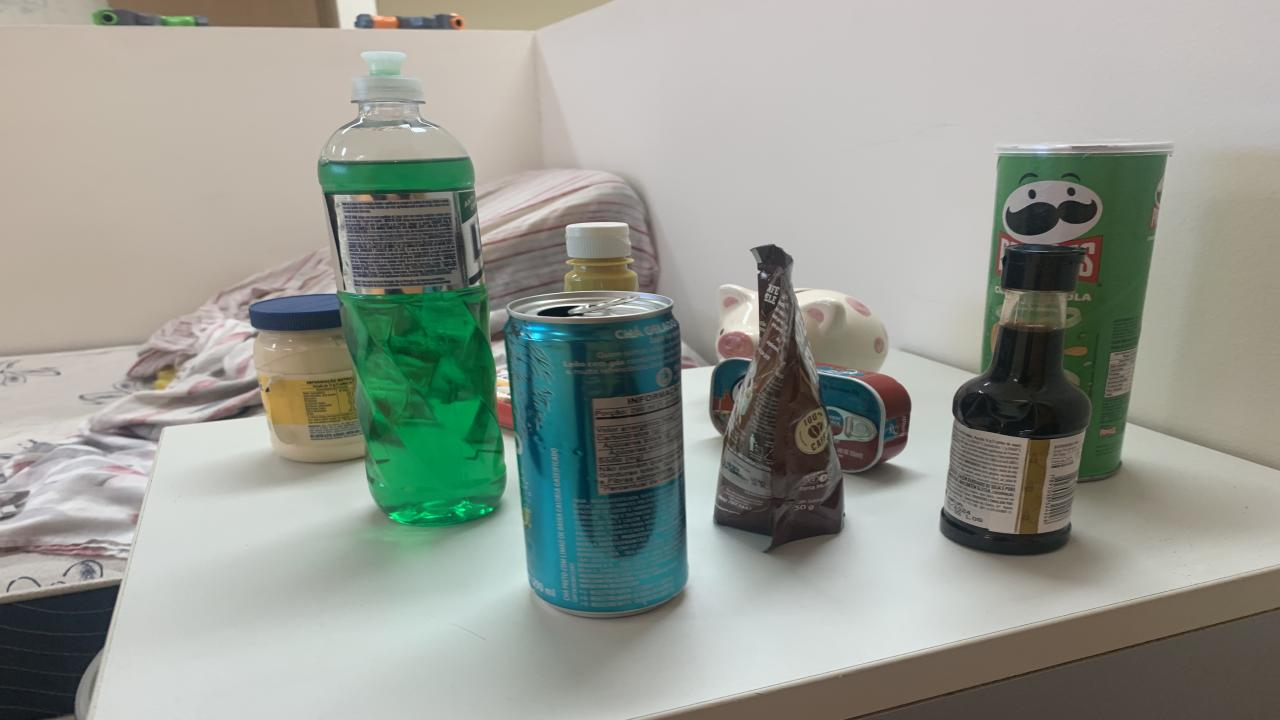Coffee-Pantry_Items: (715, 244, 842, 549)
Detergent-Cleanup_Items: (318, 52, 505, 525)
English_Sauce-Pantry_Items: (940, 244, 1090, 555)
Mayonnaise-Pantry_Items: (250, 292, 365, 461)
Mustard-Pantry_Items: (565, 221, 640, 292)
Pig_Safe-Miscellaneous: (795, 289, 888, 371), (715, 285, 758, 360)
Pringles-Snacks: (982, 141, 1172, 480)
Soap-Cleanup_Items: (495, 368, 515, 429)
Tea-Drinks: (505, 291, 688, 617)
Tuna_Can-Pantry_Items: (818, 364, 910, 472), (710, 358, 750, 431)
